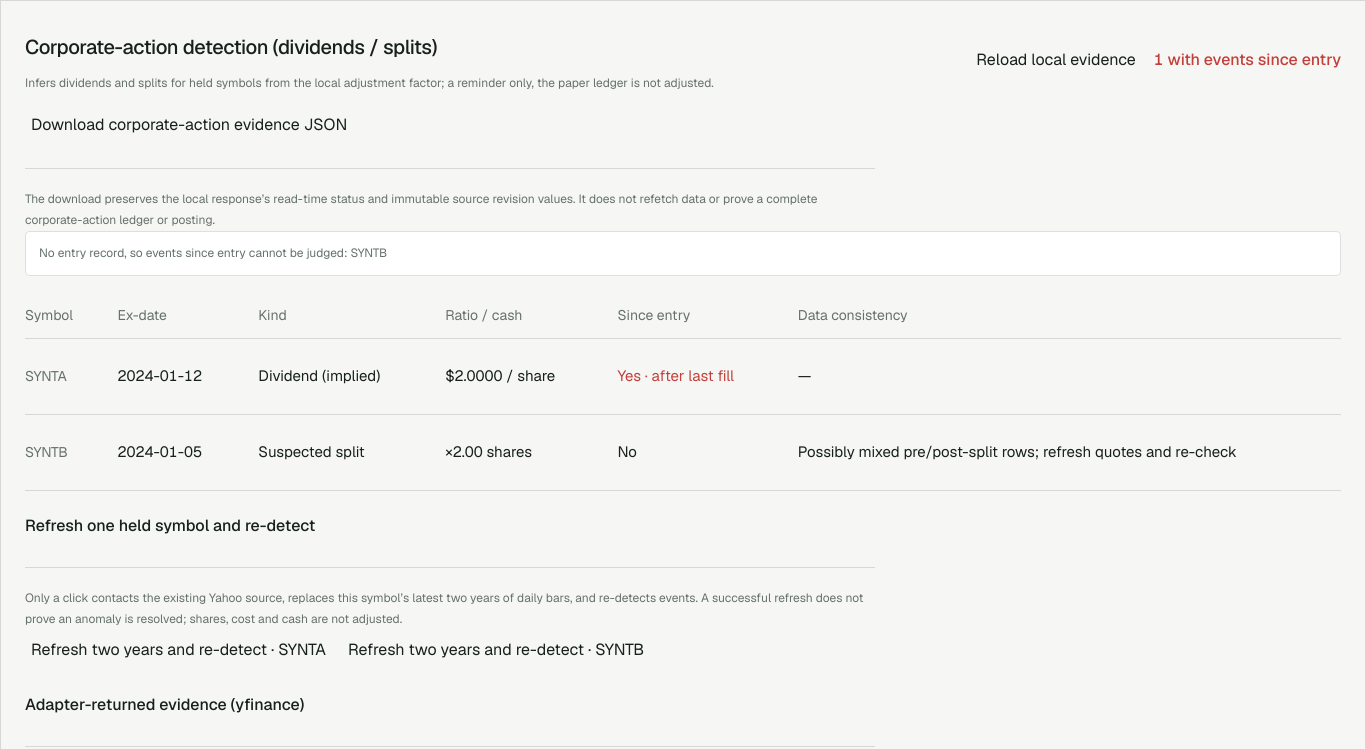
reuses the same idempotency key after an ambiguous network failure
Click the button "Refresh two years and re-detect · SYNTA" at (178, 650), box [25,630,332,670]
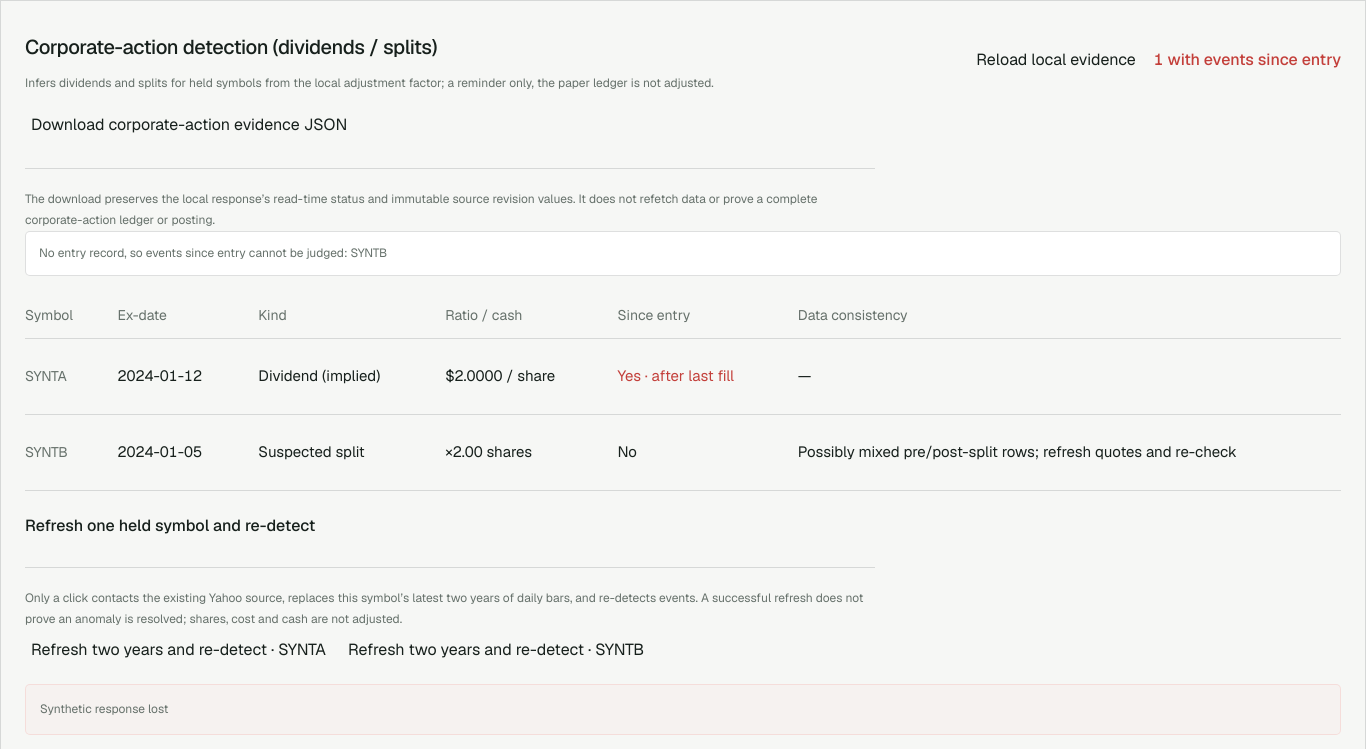
Check: the message "Synthetic response lost" is shown, box [25,684,1341,735]
Click the button "Refresh two years and re-detect · SYNTA" at (178, 650), box [25,630,332,670]
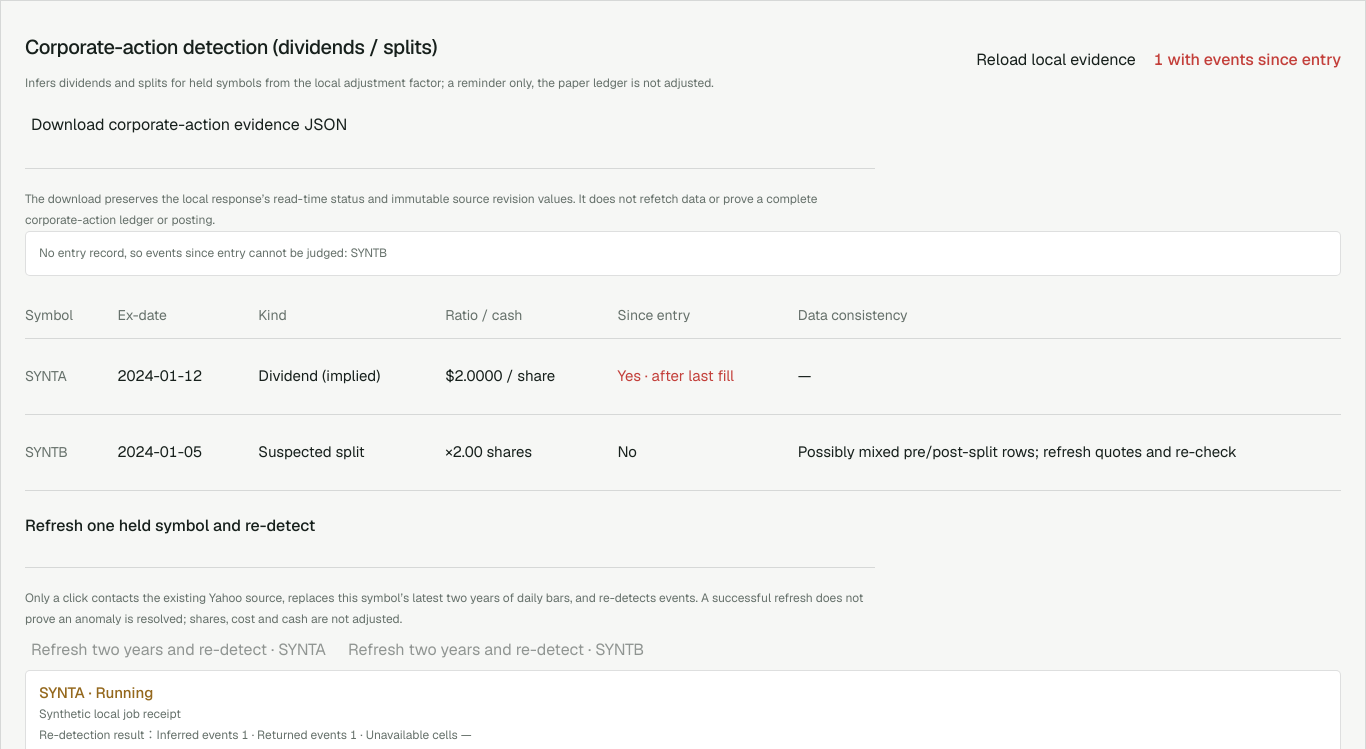
Check: the text "SYNTA · Running" is shown, box [39,683,153,702]
